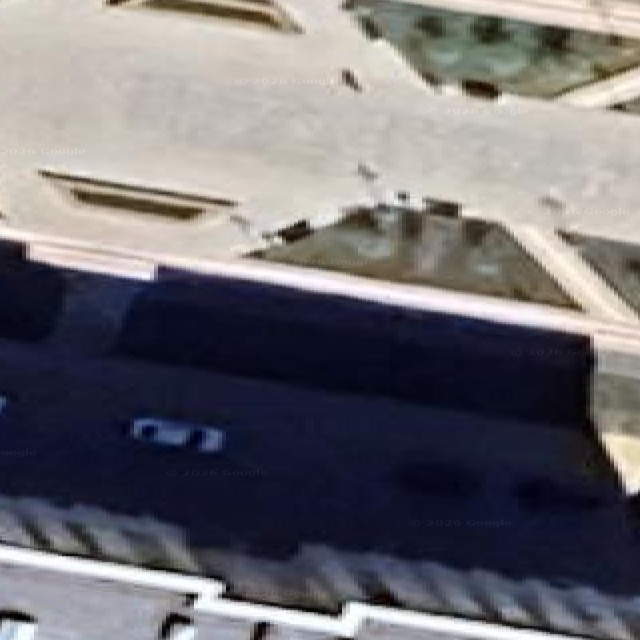car: (128, 416, 223, 452), (0, 611, 36, 639), (0, 395, 7, 413)
